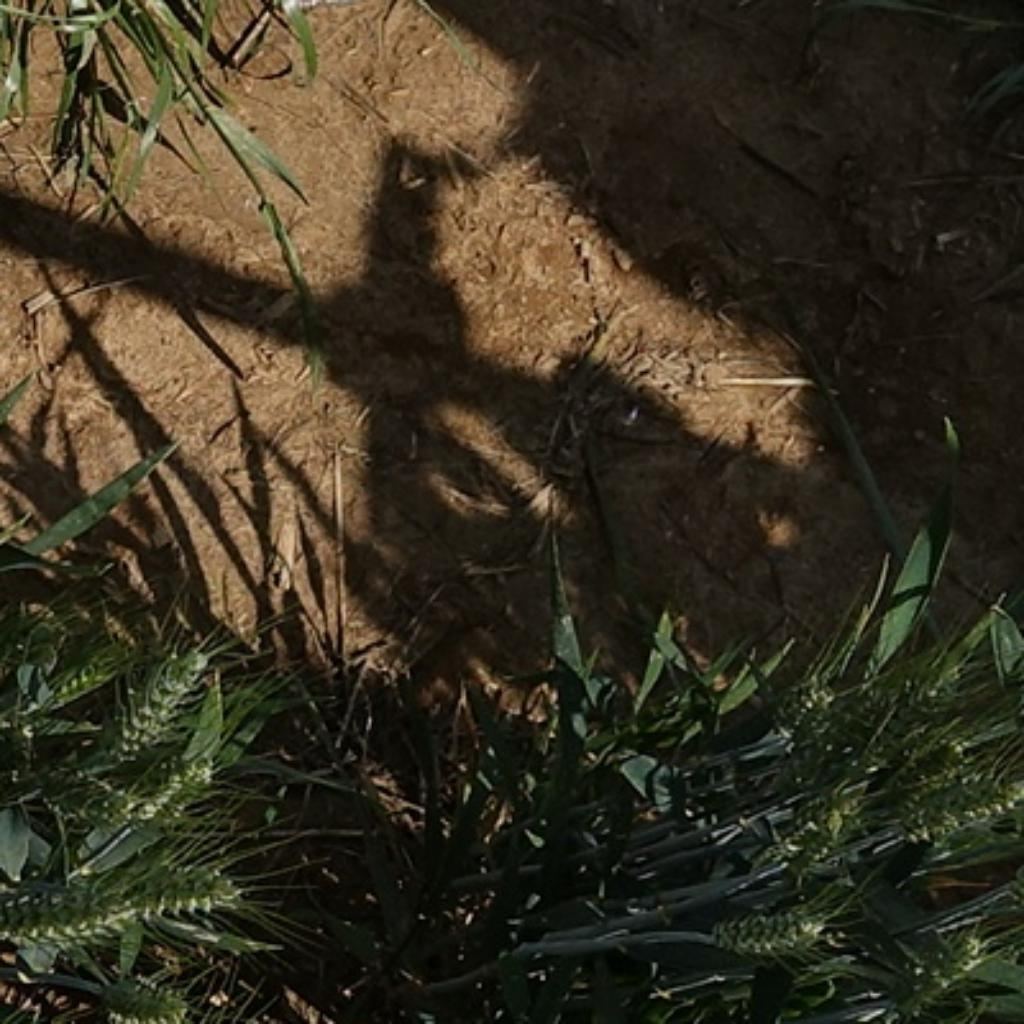0-0: (81, 634, 215, 770), (0, 866, 168, 966), (854, 640, 987, 760), (7, 645, 163, 719), (104, 844, 253, 919), (755, 655, 852, 765), (878, 929, 993, 1019), (770, 773, 880, 867), (901, 752, 1021, 837), (17, 762, 140, 842), (704, 893, 837, 965), (135, 750, 227, 821), (92, 967, 189, 1024)
